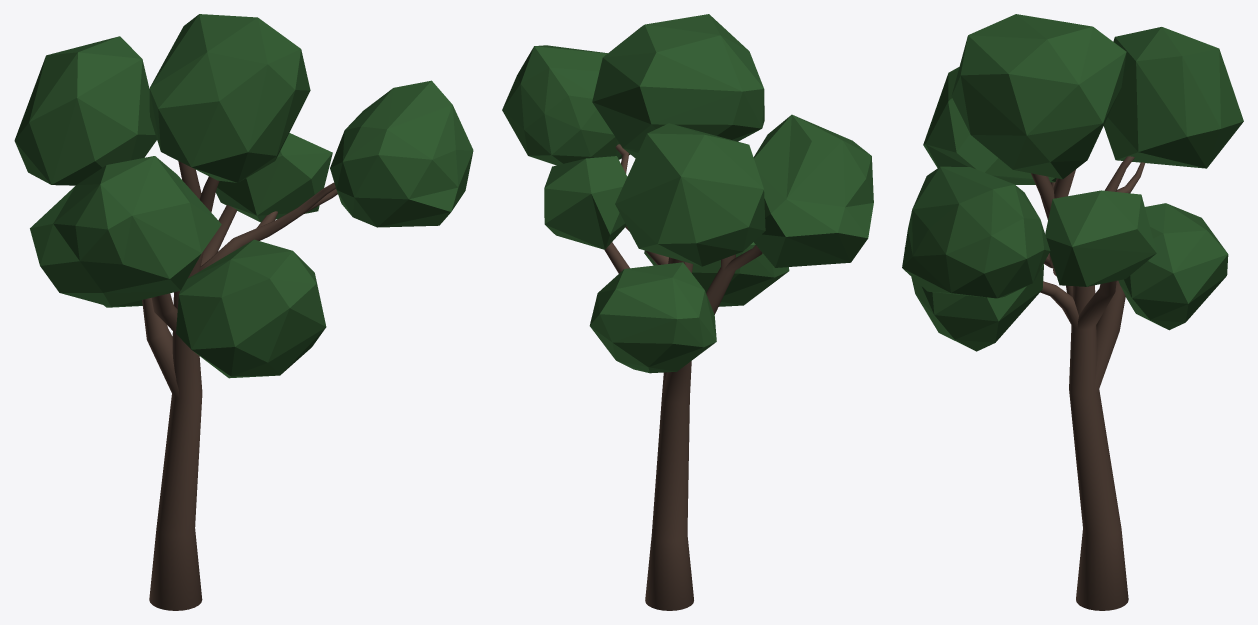
The model's file is Tree2.fbx.
3 views of the same model, side by side, from view 1: azimuth 30°, elevation 25°; view 2: azimuth 150°, elevation 25°; view 3: azimuth 270°, elevation 25° (orthographic). The views are drawn at different scales.
Parts seen in each view (by area): view 1: Leaves, Trunk; view 2: Leaves, Trunk; view 3: Leaves, Trunk.
Part boxes in pixels (left/top/right/bottom): Leaves: left=14, top=14, right=473, bottom=378; Trunk: left=142, top=161, right=337, bottom=610; Leaves: left=502, top=14, right=873, bottom=373; Trunk: left=604, top=144, right=762, bottom=610; Leaves: left=902, top=14, right=1243, bottom=351; Trunk: left=1031, top=156, right=1145, bottom=610.
Size of the model in its own units: 520 by 726 by 383.
